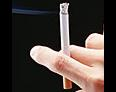Cigarette: (59, 2, 72, 88)
